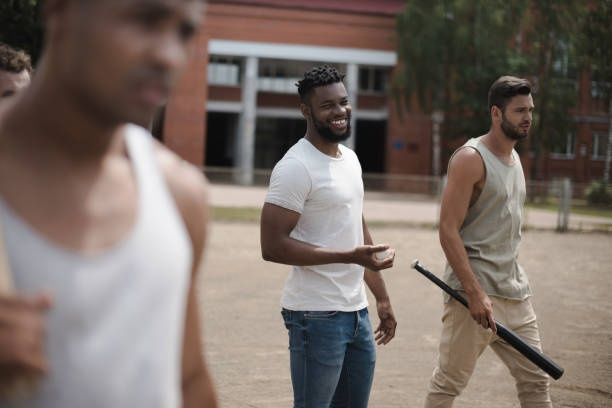bita: (409, 260, 564, 380)
